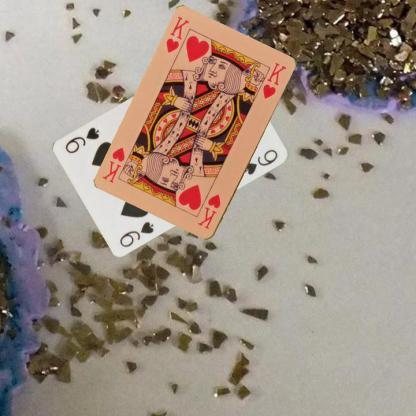9s: (116, 218, 156, 248)
Kh: (164, 14, 192, 55), (196, 192, 223, 232)
